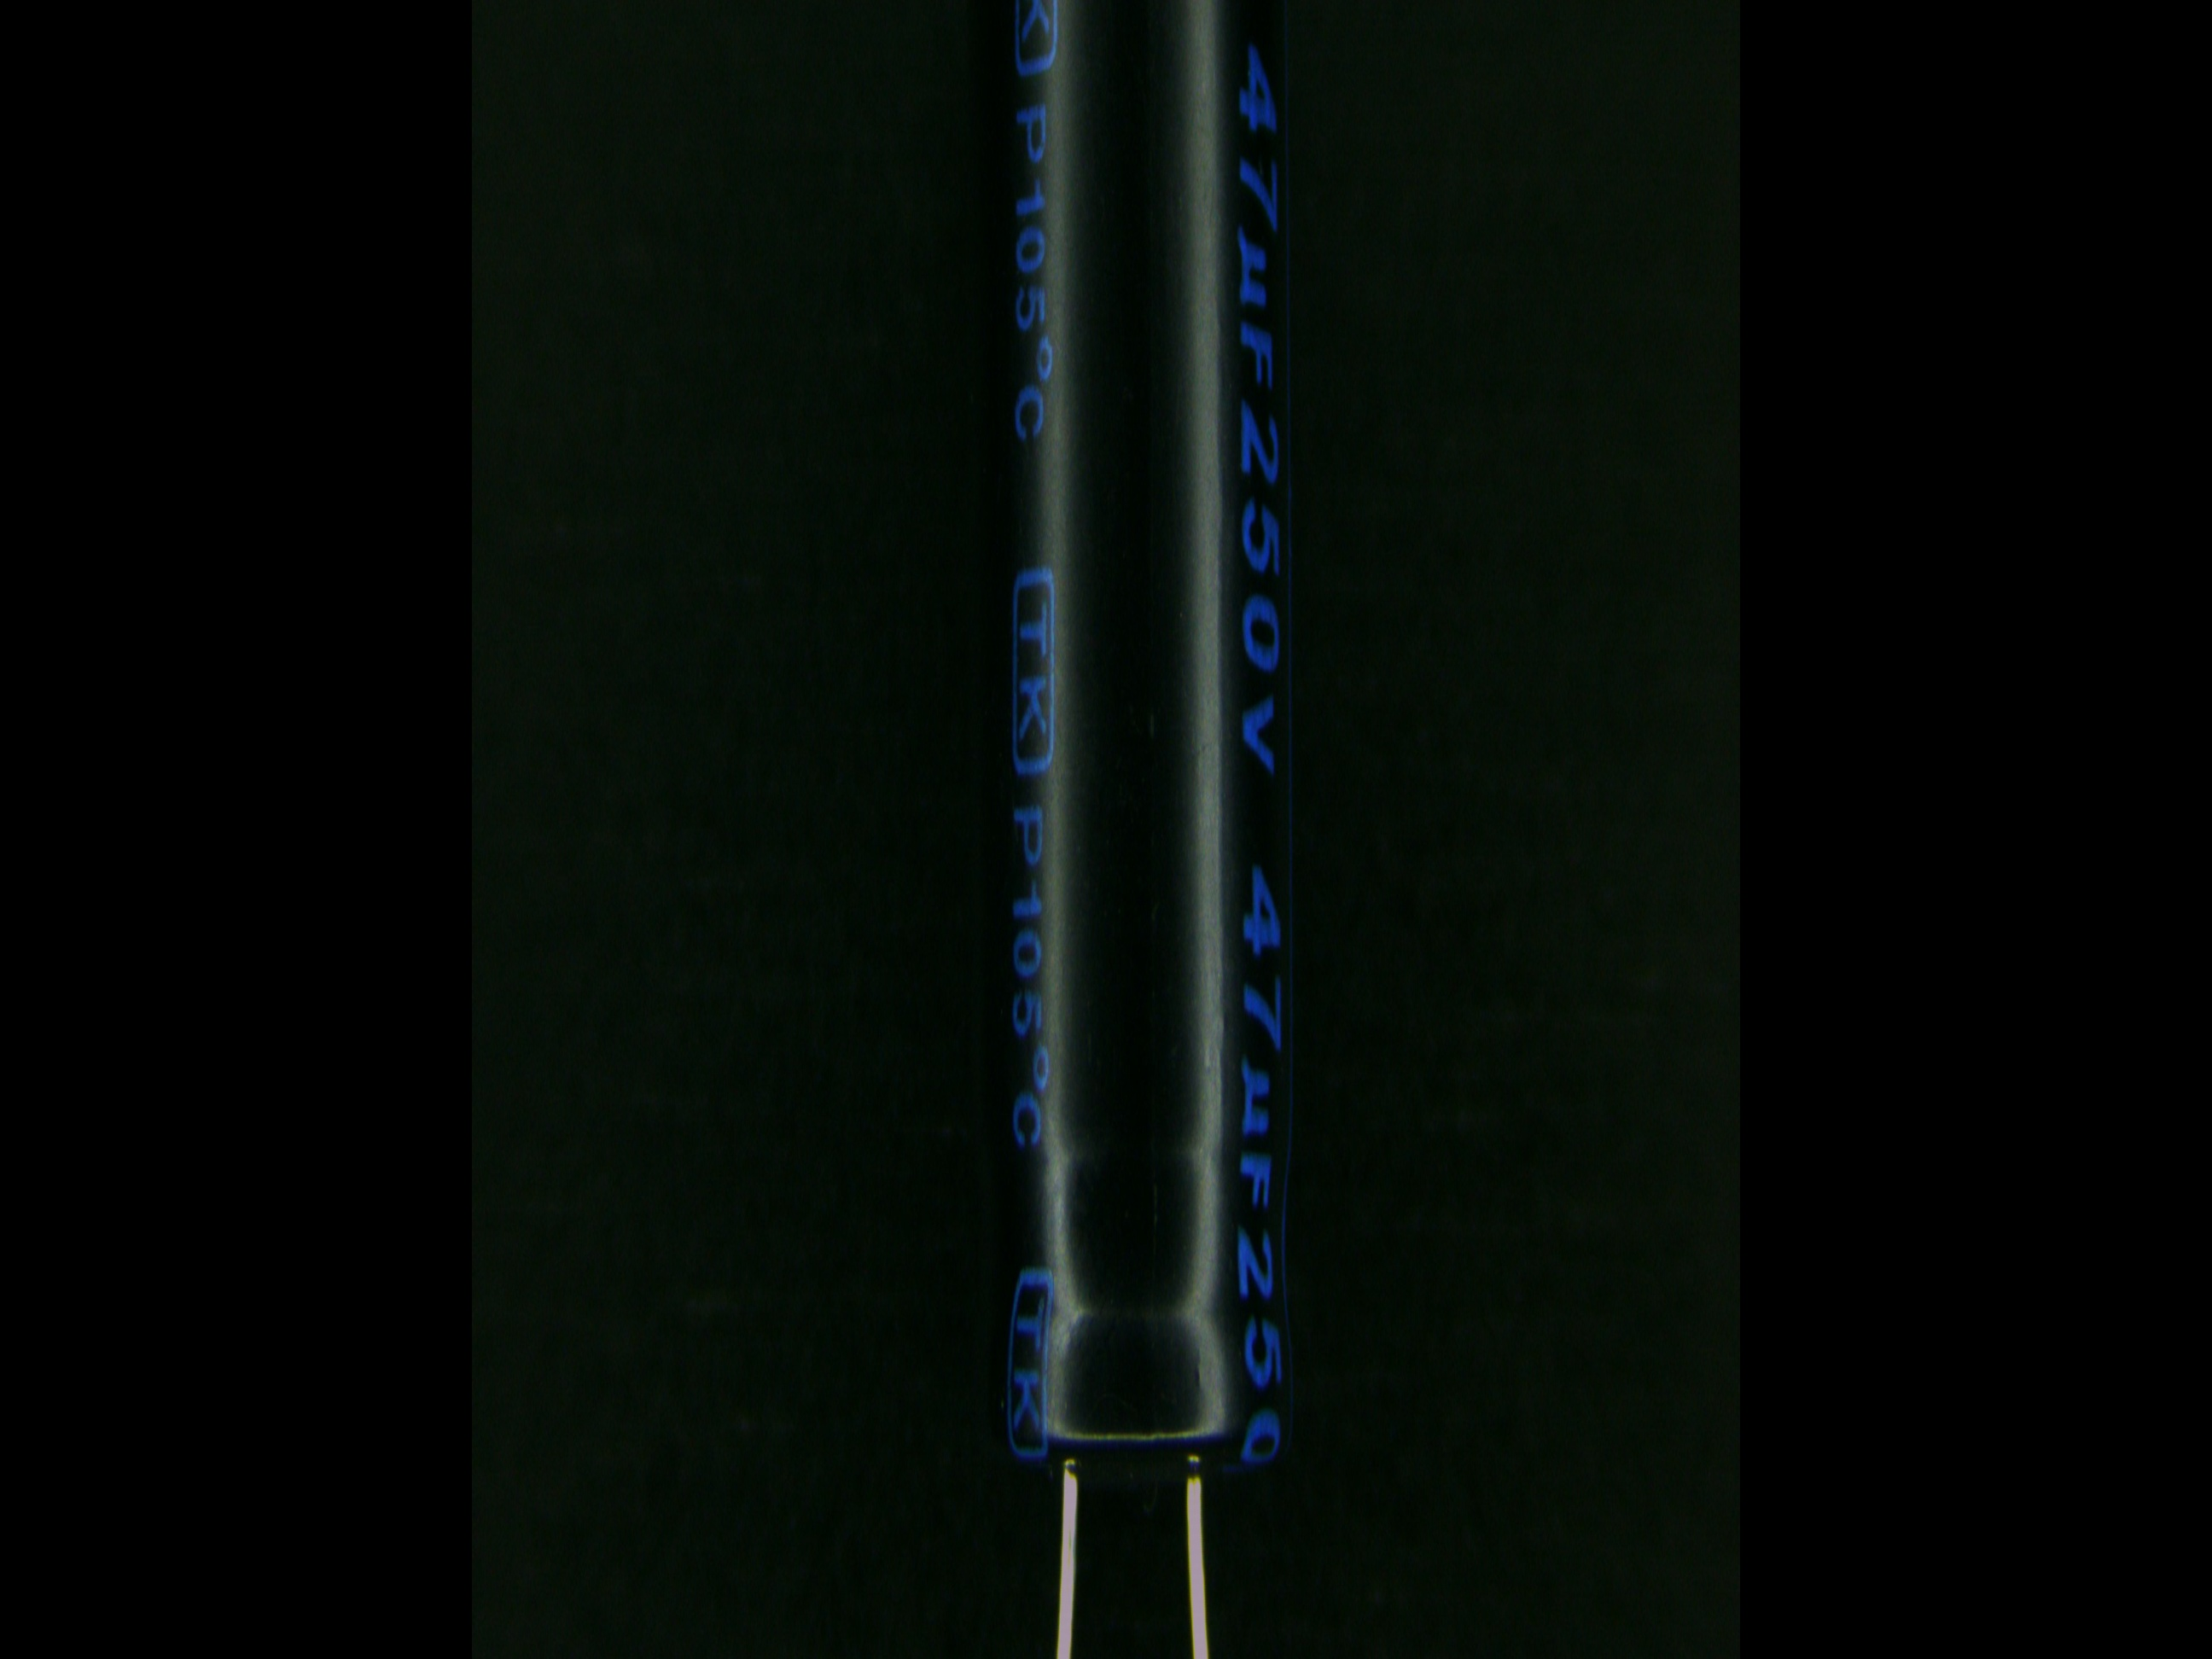c2: (967, 0, 1296, 1656)
